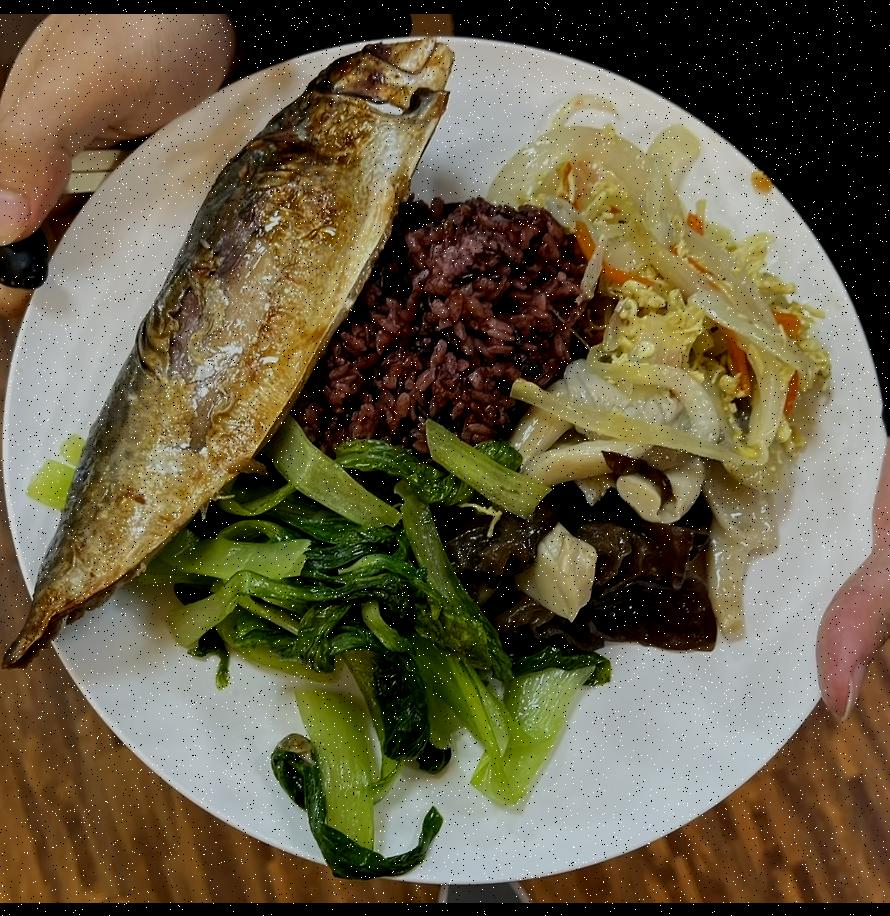big fried chicken leg: (0, 19, 888, 892)
braised fish: (293, 198, 599, 446)
braised fish fillet: (194, 451, 580, 872), (495, 125, 826, 486), (463, 487, 760, 654)
braised pork ribs: (3, 33, 459, 675)
